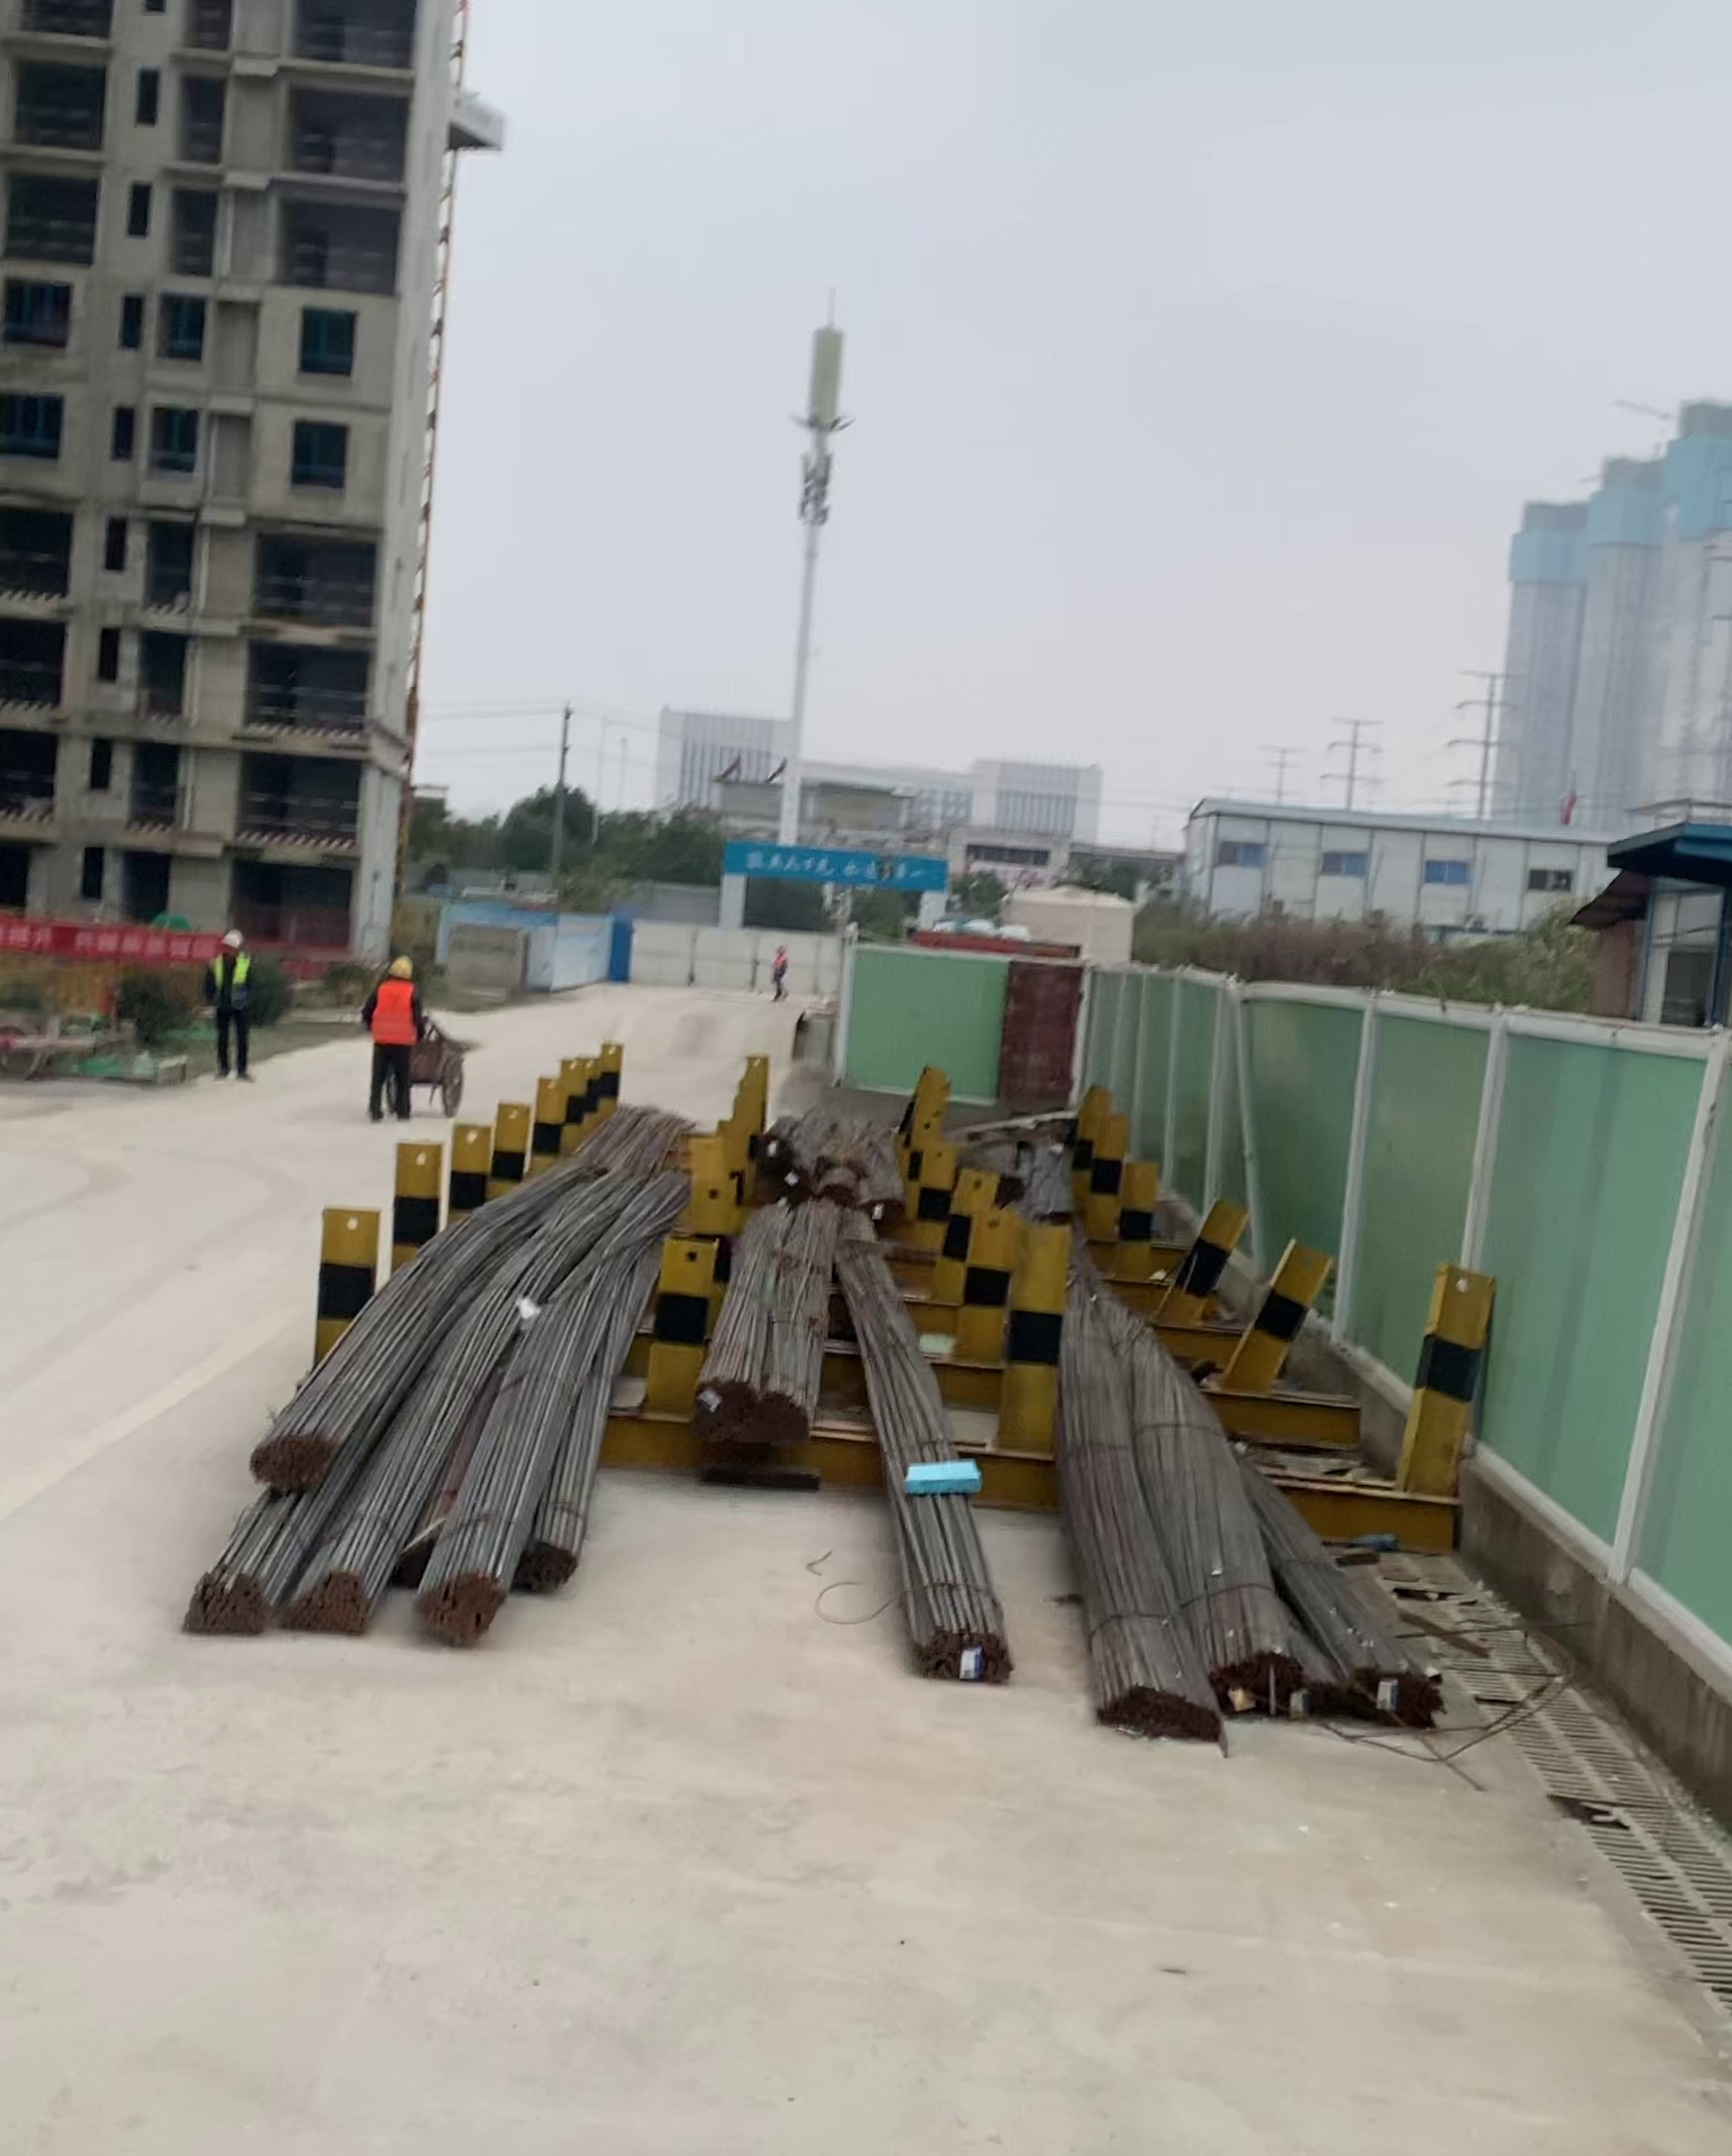rebar: (1101, 1679, 1223, 1755), (910, 1610, 1011, 1691), (1340, 1654, 1437, 1734), (421, 1566, 507, 1647), (242, 1433, 352, 1495), (1219, 1645, 1299, 1723), (295, 1569, 371, 1645), (687, 1370, 755, 1449), (184, 1568, 265, 1631), (763, 1380, 813, 1469), (504, 1539, 574, 1589)
